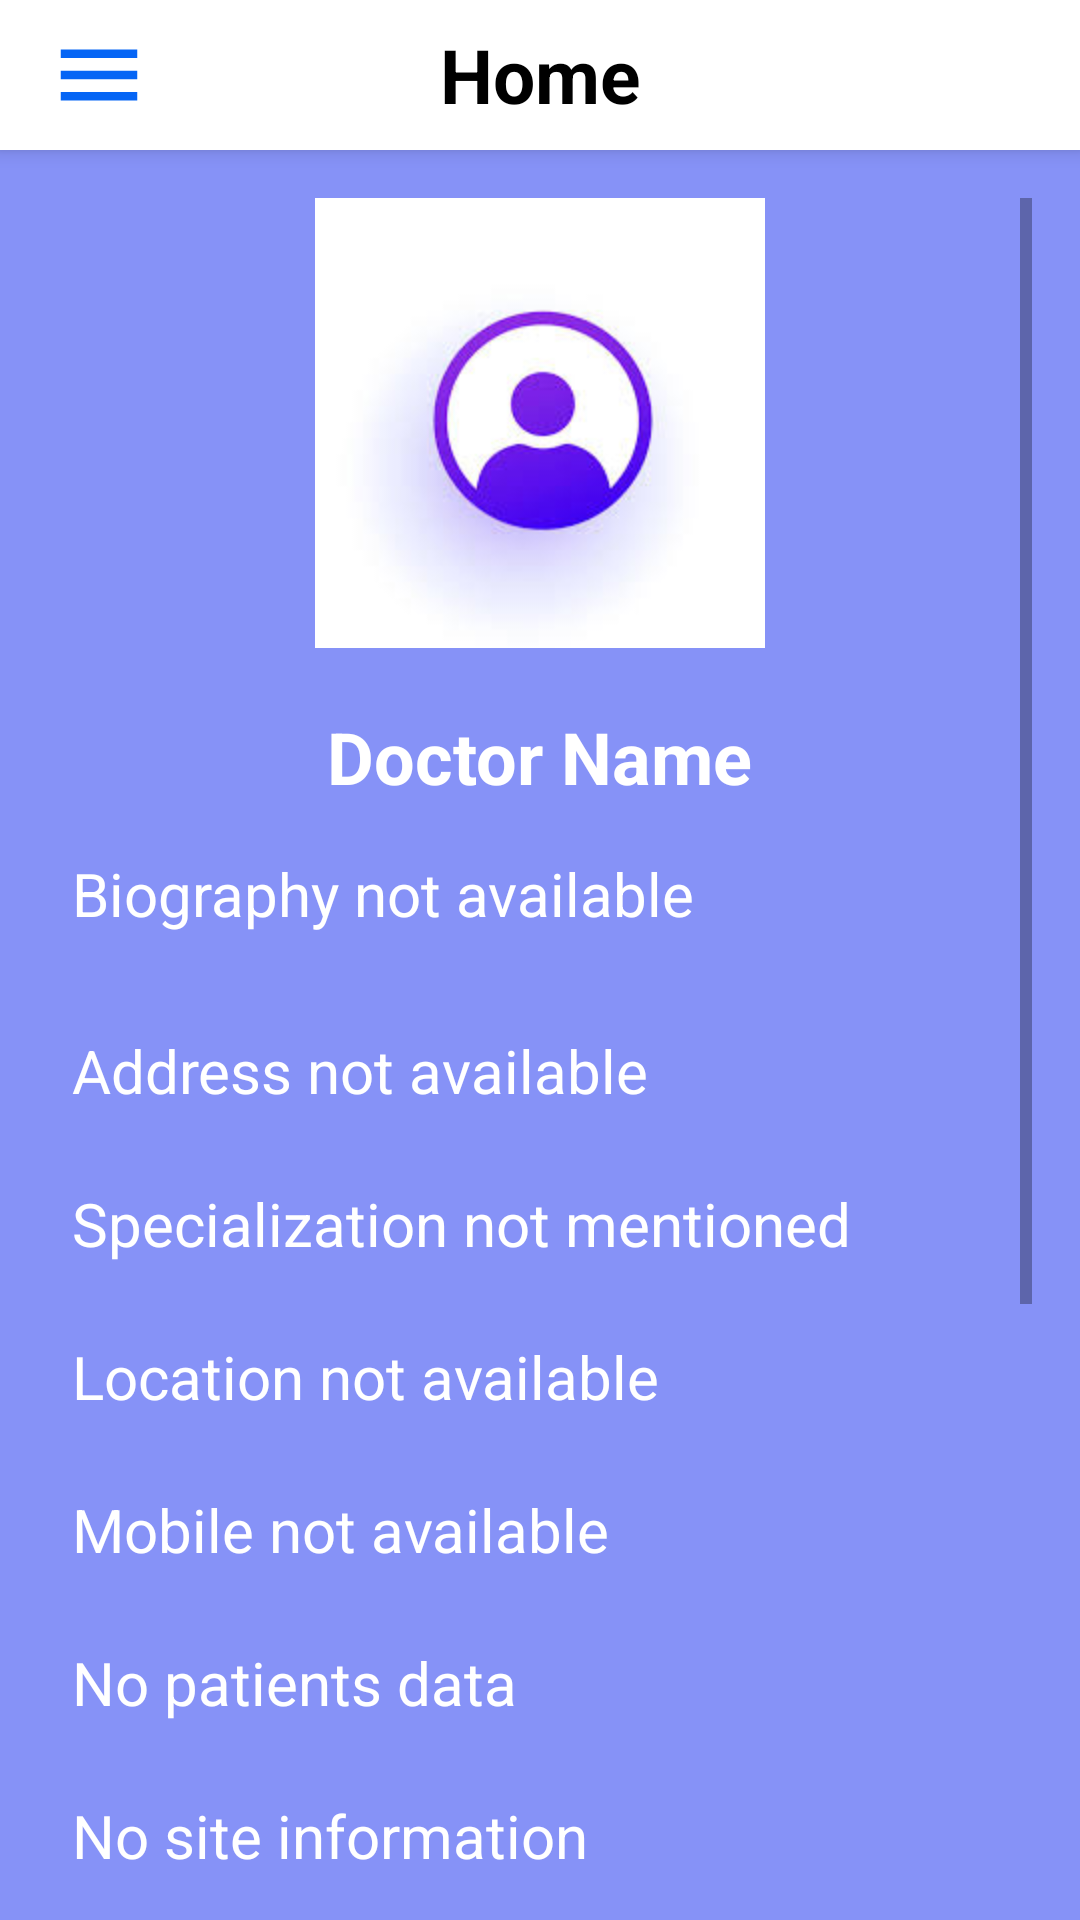

Icons on this 1080 x 1920 Android screen, each with its box as bbox=(x1, y1, x2, y2):
Navigation Button: bbox=(60, 49, 138, 101)
